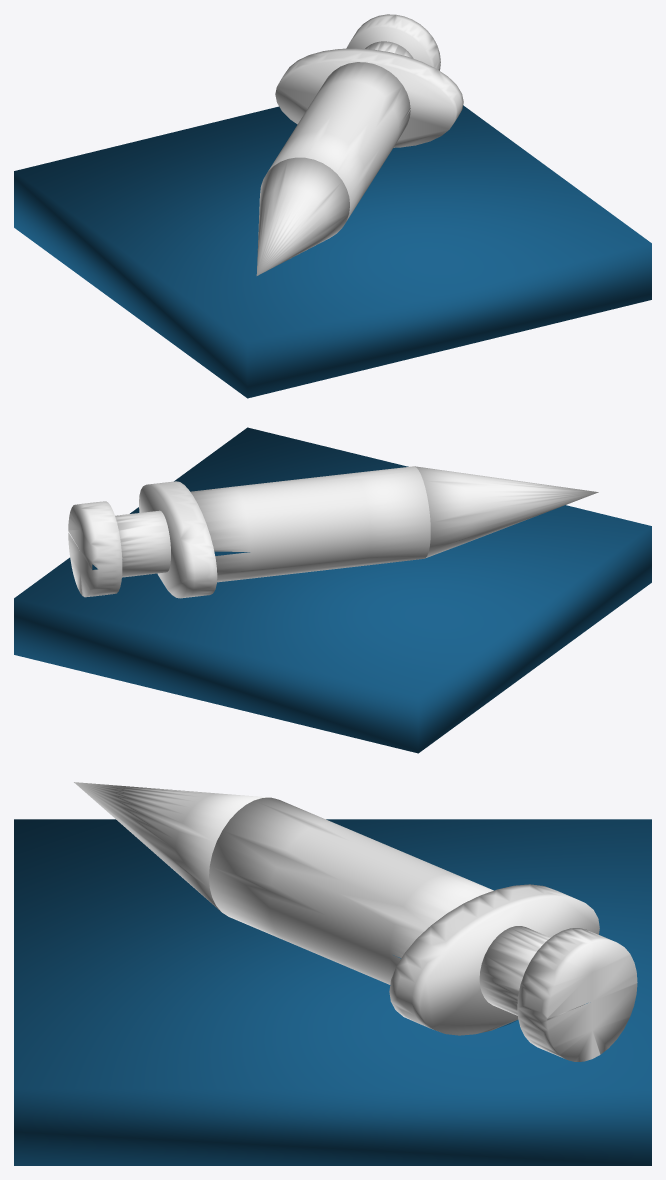
File: w_hypo.glb
3 renders of one model, top to bottom at view 1: azimuth 30°, elevation 25°; view 2: azimuth 150°, elevation 25°; view 3: azimuth 270°, elevation 25°, orthographic. The views are drawn at different scales.
Visible parts, largest first — view 1: basetta, figura; view 2: basetta, figura; view 3: basetta, figura.
Part boxes in pixels (left/top/right/bottom): basetta: left=14, top=105, right=651, bottom=398; figura: left=256, top=14, right=463, bottom=275; basetta: left=14, top=427, right=651, bottom=753; figura: left=68, top=466, right=598, bottom=598; basetta: left=14, top=819, right=651, bottom=1165; figura: left=74, top=782, right=637, bottom=1061.
Size of the model in its own units: 0.015 by 0.005 by 0.015.
